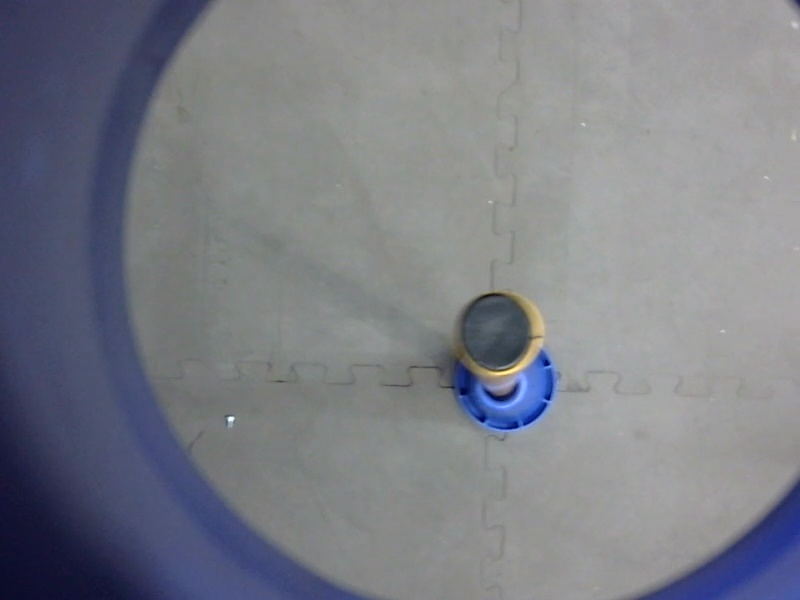tip: (450, 285, 549, 382)
